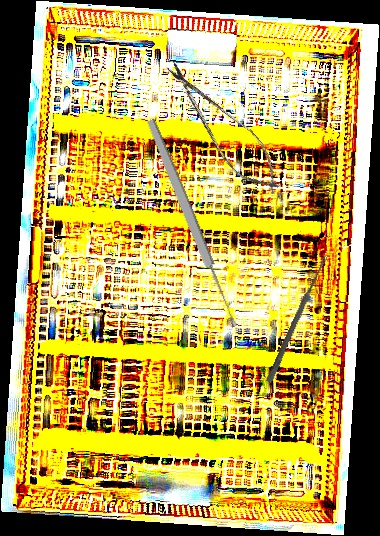Micro Scissor: (152, 51, 294, 205)
Surgical Spoon: (144, 117, 241, 330), (266, 253, 329, 384)
